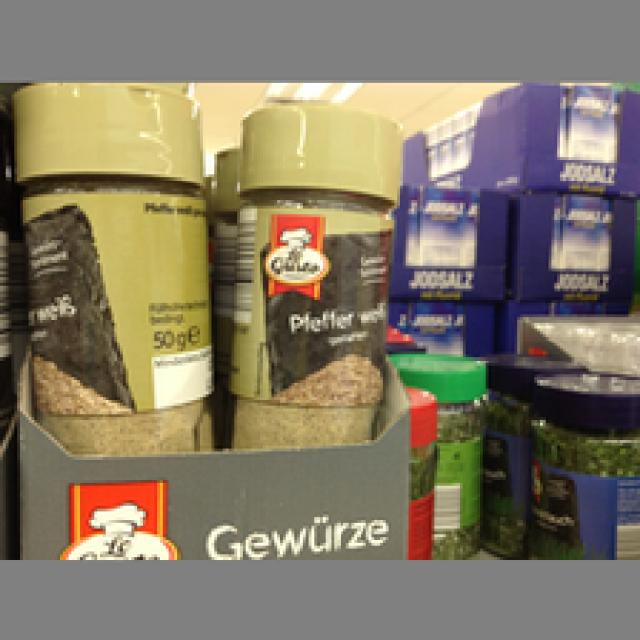groceries: (9, 80, 214, 454), (226, 97, 391, 446), (526, 372, 637, 554)
